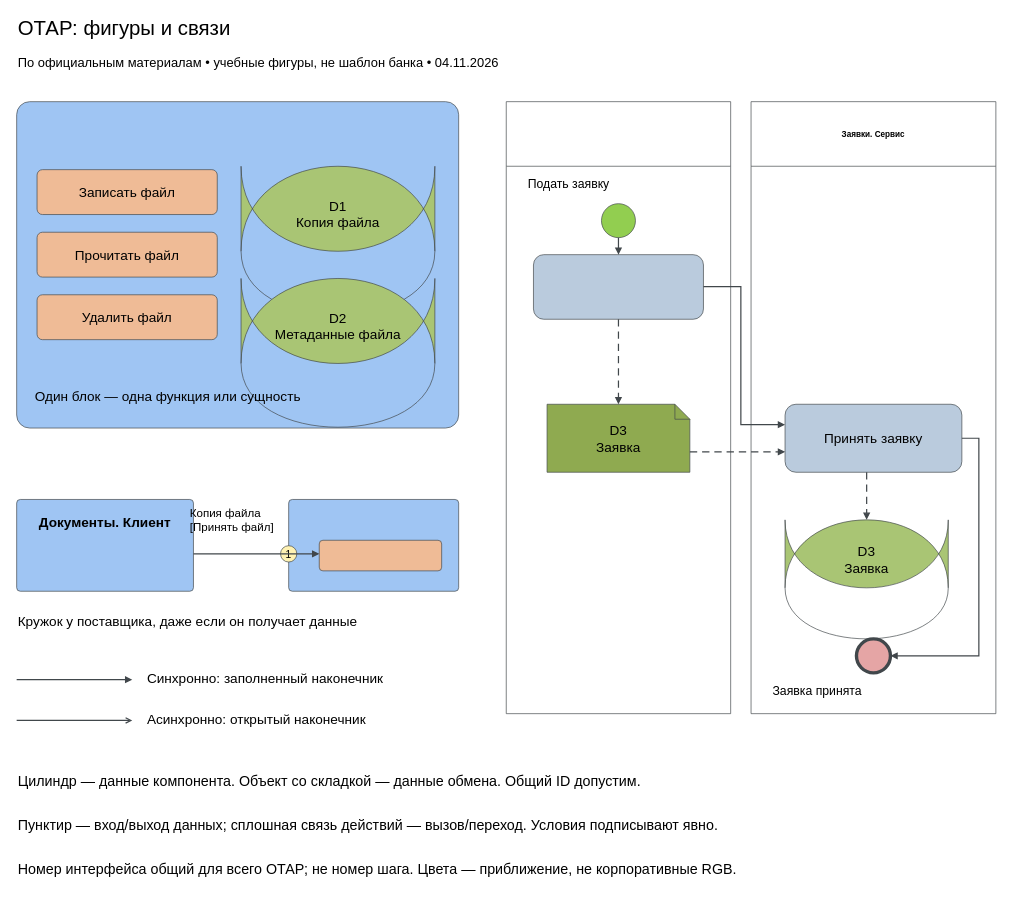
This 1021x898 diagram has some shape labels left out. The shapes that lost their labels are listed below. From the top down, each one's box as (x1, y1, x2, y2) in pixels, then its label:
(16, 101, 459, 428): Документы. Хранилище
(533, 254, 703, 319): Отправить заявку
(506, 101, 731, 714): Заявки. Портал
(288, 499, 459, 591): Документы. Сервис
(319, 540, 442, 571): Принять файл
